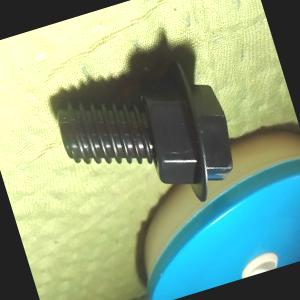parafuso: (48, 49, 248, 238)
